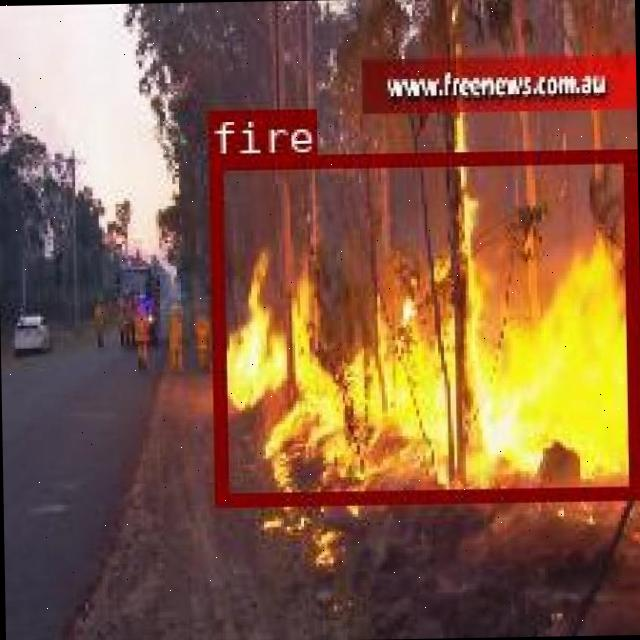fire: (207, 148, 637, 502)
